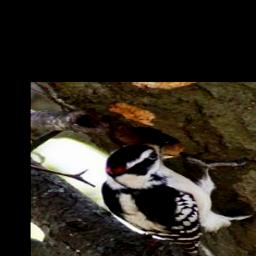Woodpecker: (101, 138, 253, 256)
